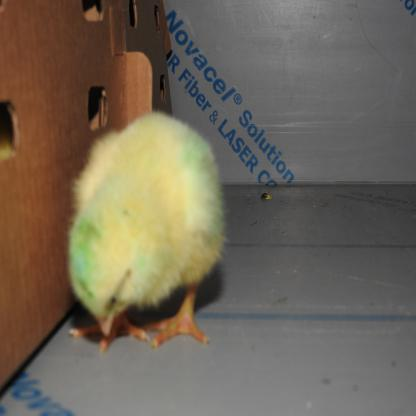Chickrotationtrack_idkeyframe: (69, 91, 230, 349)
